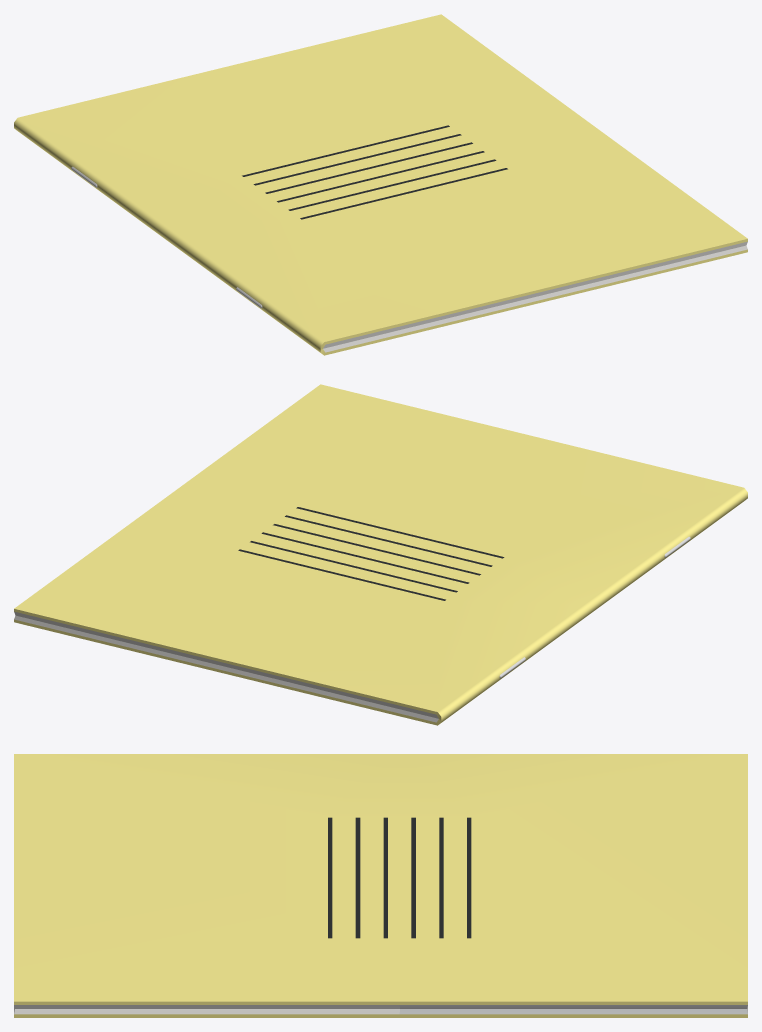
Rendered from Notebook_01.glb.
The picture shows the model from 3 angles, top to bottom: view 1: azimuth 30°, elevation 25°; view 2: azimuth 150°, elevation 25°; view 3: azimuth 270°, elevation 25°; orthographic projection. The views are drawn at different scales.
Parts seen in each view (by area): view 1: Notebook_02, Notebook_01; view 2: Notebook_02, Notebook_01; view 3: Notebook_02, Notebook_01.
Part boxes in pixels (x1,y1,x2,y2): Notebook_02: [14, 14, 747, 349]; Notebook_01: [14, 125, 747, 355]; Notebook_02: [14, 384, 747, 719]; Notebook_01: [14, 495, 747, 725]; Notebook_02: [14, 754, 747, 1008]; Notebook_01: [14, 1006, 747, 1017].
Size of the model in its own units: 0.1677 by 0.00507 by 0.2077.
Materials: 3 (3 with a texture image).
